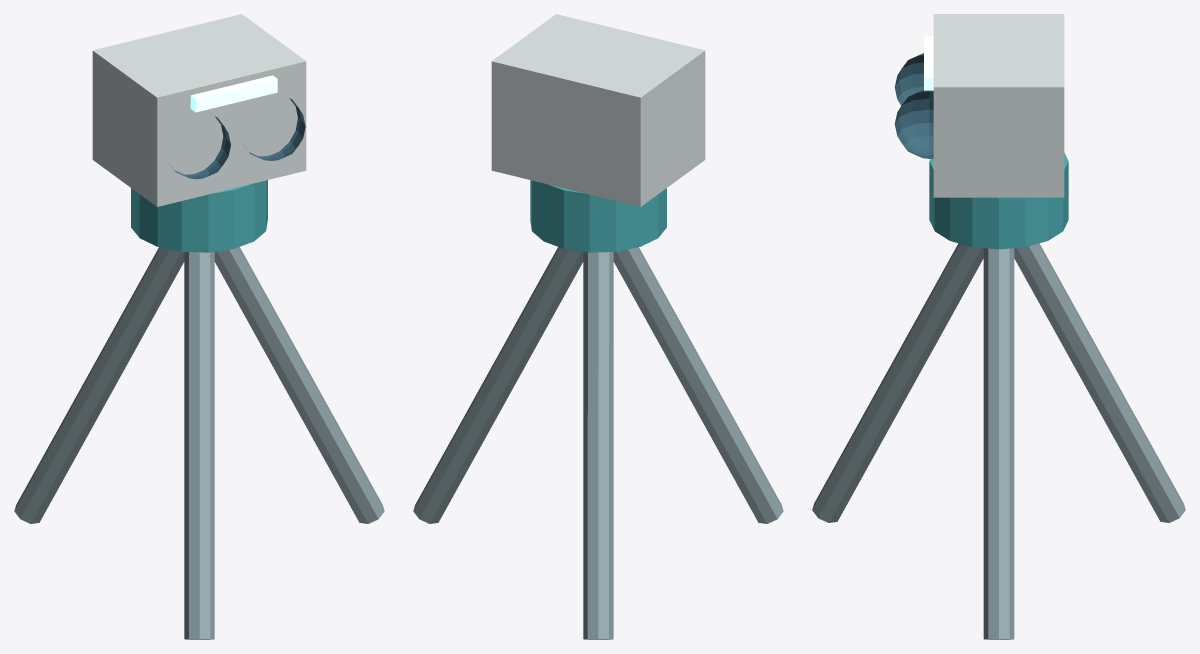
Rendered from orbital-field-station-tripod-terrain-scanner__156.glb.
The picture shows the model from 3 angles, left to right: view 1: azimuth 30°, elevation 25°; view 2: azimuth 150°, elevation 25°; view 3: azimuth 270°, elevation 25°; orthographic projection.
Visible parts, largest first — view 1: shell, metal, accent, light, glass; view 2: shell, metal, accent; view 3: metal, shell, accent, glass, light.
Boxes of the visible parts, x1=… form: shell: x1=92, y1=14, x2=306, y2=206; metal: x1=14, y1=247, x2=384, y2=639; accent: x1=131, y1=180, x2=267, y2=252; light: x1=190, y1=75, x2=277, y2=112; glass: x1=169, y1=96, x2=305, y2=179; shell: x1=491, y1=14, x2=705, y2=206; metal: x1=413, y1=247, x2=783, y2=639; accent: x1=530, y1=180, x2=666, y2=252; metal: x1=812, y1=243, x2=1185, y2=639; shell: x1=933, y1=14, x2=1064, y2=197; accent: x1=929, y1=152, x2=1068, y2=249; glass: x1=894, y1=53, x2=933, y2=158; light: x1=924, y1=36, x2=933, y2=90.
Size of the model in its own units: 0.7535 by 1.3 by 0.8598.
